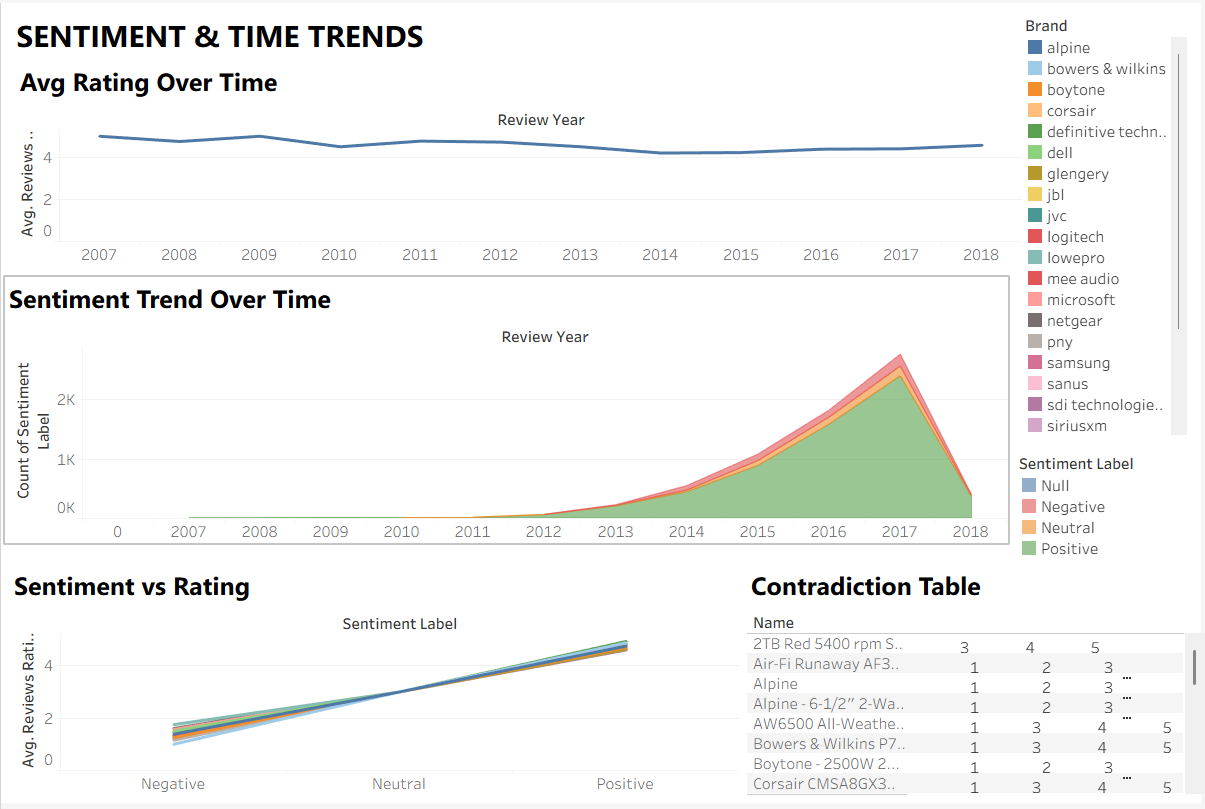

What the dashboard file says about the page in this screenshot:
{"tool":"tableau","page":{"name":"Dashboard 4","canvas":[1200,800],"ordinal":3},"visuals":[{"type":"title","box":[8,8,1012,48]},{"type":"legend","title":"Sheet 18","param":"[federated.1icez050jek3vm11lolbb1hnjdck].[none:brand:nk]","box":[1020,8,172,428]},{"type":"worksheet","title":"Sheet 17","mark":"Line","rows":["reviews_rating"],"cols":["review_year"],"box":[8,57,1013,206]},{"type":"worksheet","title":"Sheet 16","mark":"Area","rows":["sentiment_label"],"cols":["review_year"],"box":[4,274,1003,266]},{"type":"legend","title":"Sheet 16","param":"[federated.1icez050jek3vm11lolbb1hnjdck].[none:sentiment_label:nk]","box":[1018,450,176,115]},{"type":"worksheet","title":"Sheet 18","mark":"Line","rows":["reviews_rating"],"cols":["sentiment_label"],"box":[5,557,737,239]}]}

Visuals, with their boxes in screenshot pixels (x1, y1, x2, y2), scaled from the page's 1200x800 canvas onto the 1205x809 screenshot:
title: bbox(8, 8, 1024, 57)
"Sheet 18" legend: bbox(1024, 8, 1197, 441)
"Sheet 17" worksheet (Line marks): bbox(8, 58, 1025, 266)
"Sheet 16" worksheet (Area marks): bbox(4, 277, 1011, 546)
"Sheet 16" legend: bbox(1022, 455, 1199, 571)
"Sheet 18" worksheet (Line marks): bbox(5, 563, 745, 805)
